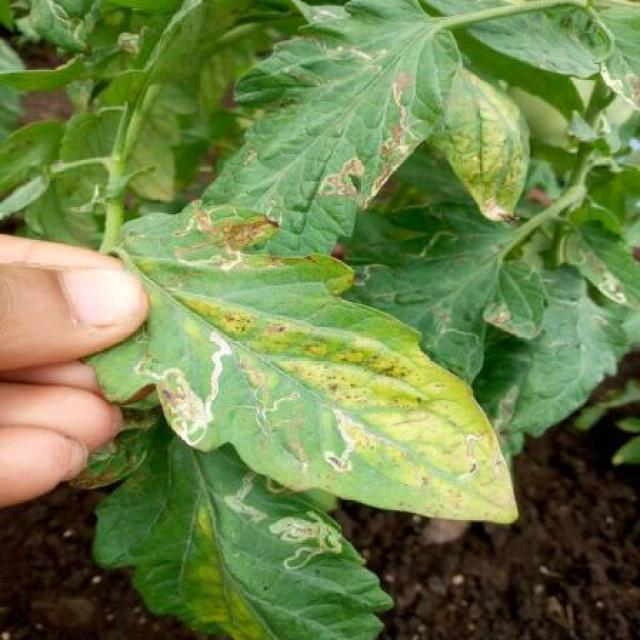Leaf Miner: (80, 206, 520, 524), (81, 418, 402, 639), (208, 0, 452, 259)
